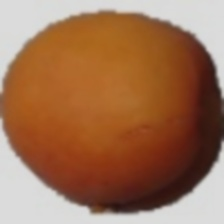apricot: (23, 51, 183, 197)
